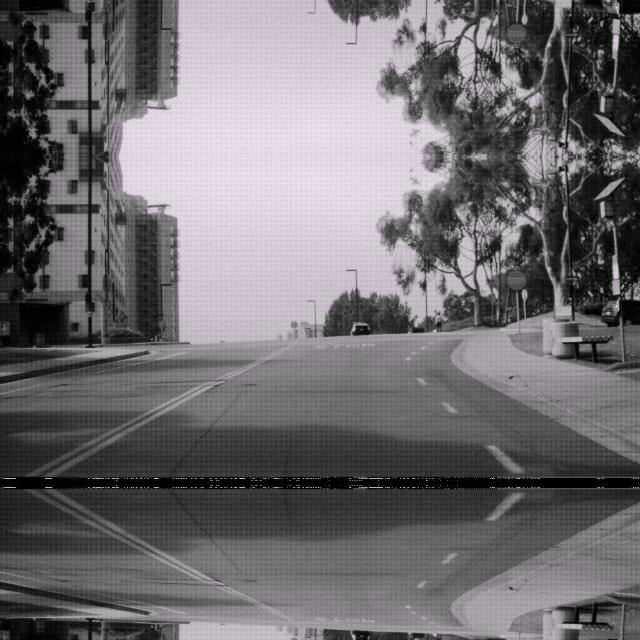stop: (505, 269, 525, 289), (505, 23, 525, 43)
